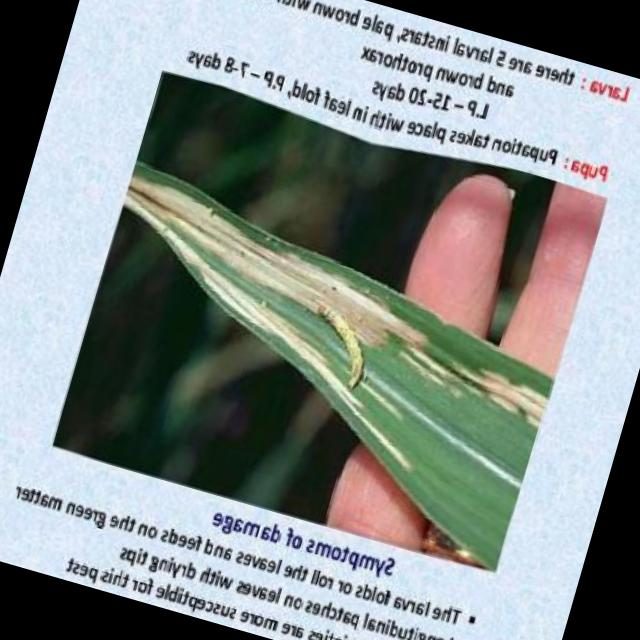leaf-folder: (286, 291, 386, 394)
